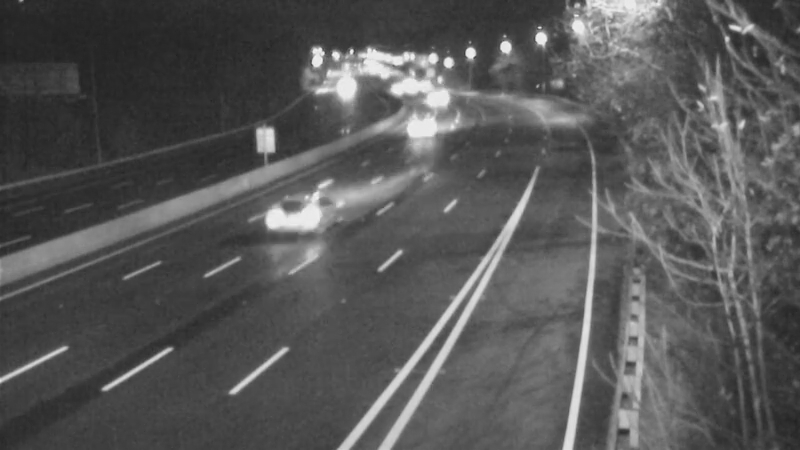vehicle: (254, 177, 334, 257), (409, 75, 459, 125), (400, 107, 450, 157)
